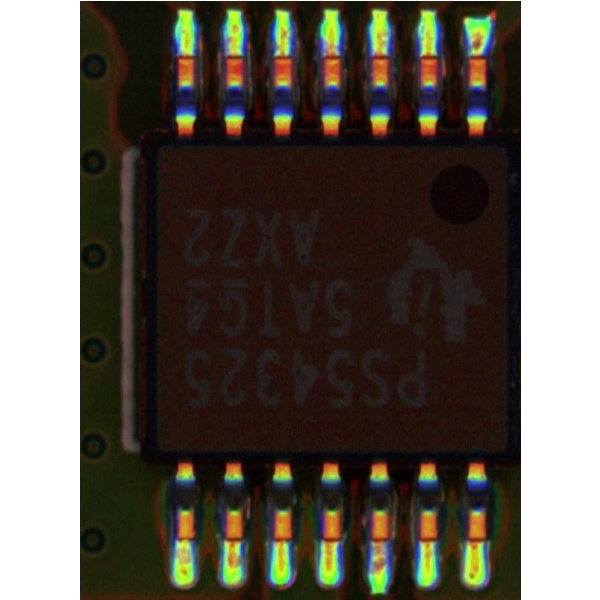Bad_podu: (227, 522, 240, 558), (324, 524, 336, 561), (277, 522, 288, 561), (375, 523, 387, 558), (424, 519, 434, 559), (374, 39, 387, 69), (471, 521, 481, 557), (327, 39, 339, 69), (423, 41, 435, 69), (278, 39, 289, 69)
